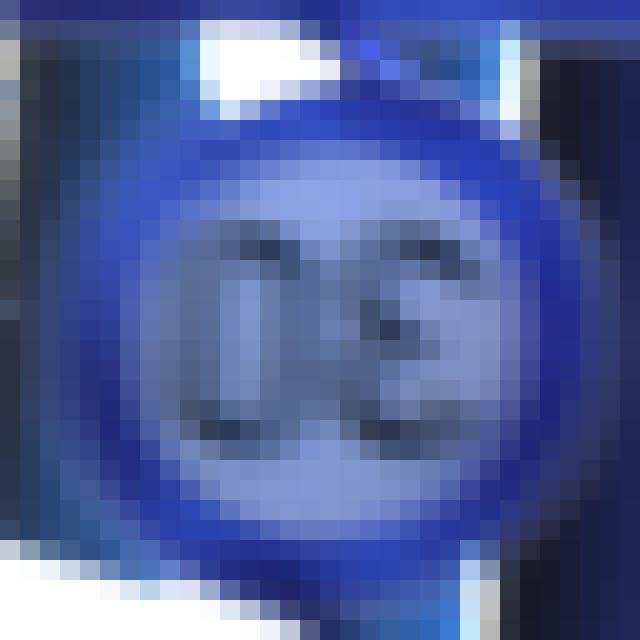SPEED LIMIT 30: (99, 97, 595, 566)
